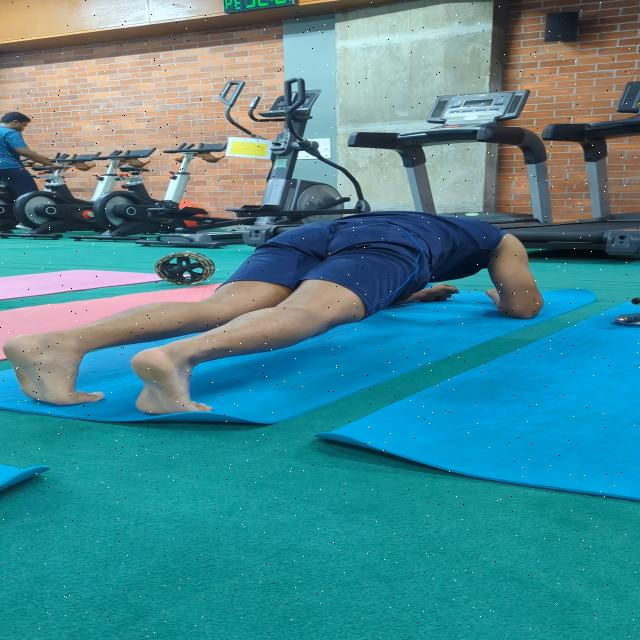Normal_Plunk: (0, 200, 567, 413)
